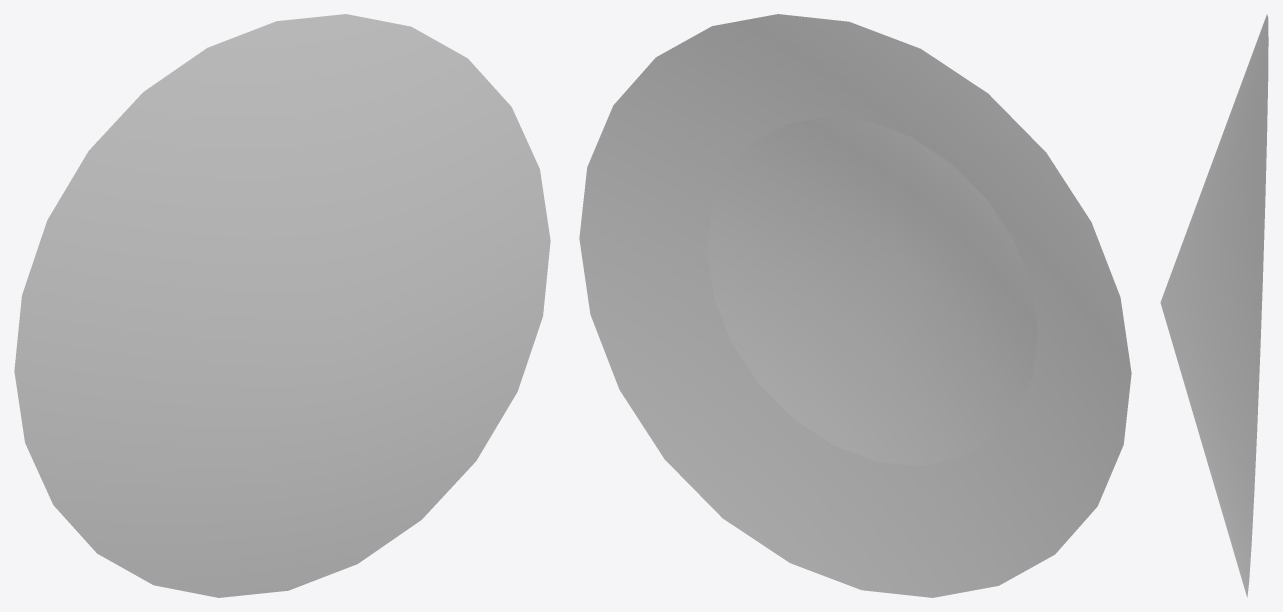
Rendered from Sun.glb.
The picture shows the model from 3 angles, left to right: view 1: azimuth 30°, elevation 25°; view 2: azimuth 150°, elevation 25°; view 3: azimuth 270°, elevation 25°; orthographic projection. The views are drawn at different scales.
Visible parts, largest first — view 1: polySurface1; view 2: polySurface1, polySurface1.001; view 3: polySurface1.
Boxes of the visible parts, left/top/right/bottom form: polySurface1: left=14, top=14, right=550, bottom=597; polySurface1: left=579, top=14, right=1131, bottom=597; polySurface1.001: left=707, top=116, right=1037, bottom=466; polySurface1: left=1160, top=14, right=1268, bottom=597.
Size of the model in its own units: 403 by 402 by 74.19.
1 material, 1 textured.
